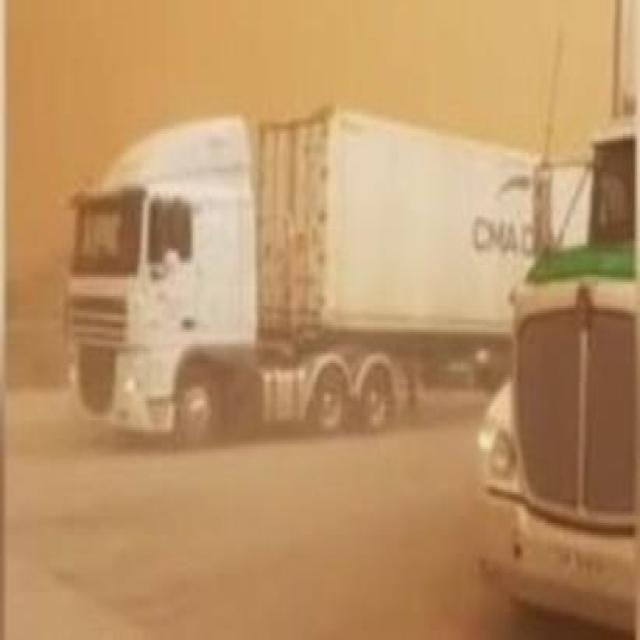Truck: (65, 113, 577, 439), (462, 129, 640, 638)
